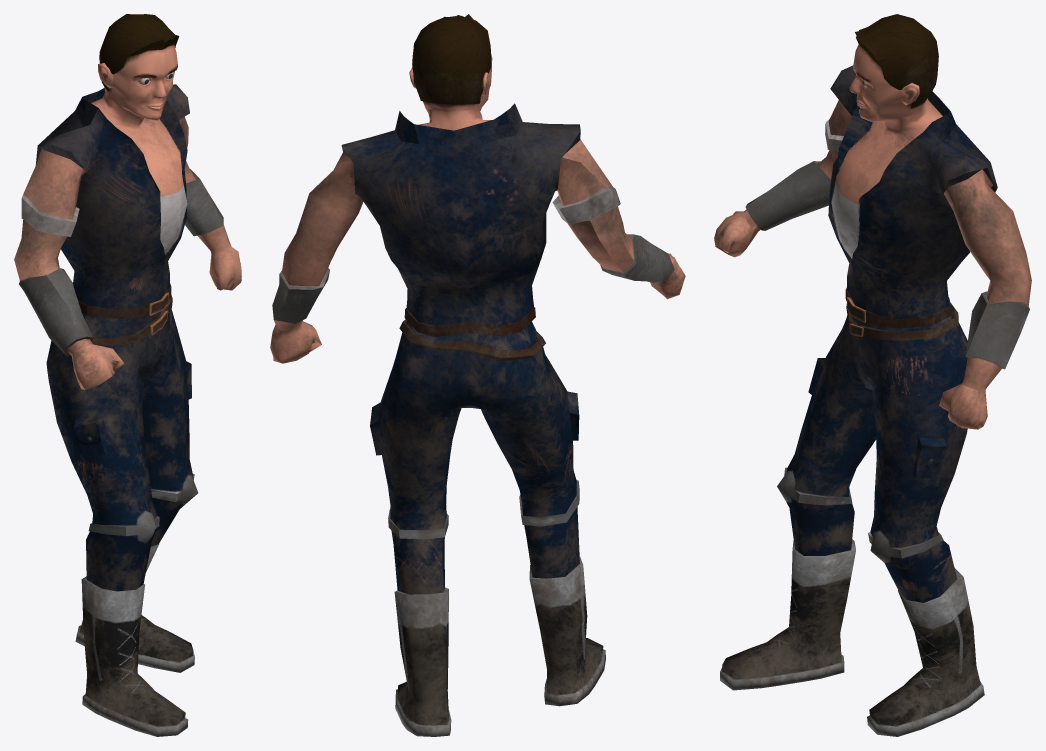
The model's file is Anim_abrir_puerta_ok_jugador.0019.obj.
The picture shows the model from 3 angles, left to right: view 1: azimuth 30°, elevation 25°; view 2: azimuth 150°, elevation 25°; view 3: azimuth 270°, elevation 25°; orthographic projection. The views are drawn at different scales.
Parts seen in each view (by area): view 1: polySurface1; view 2: polySurface1; view 3: polySurface1.
Part boxes in pixels (x1=…): polySurface1: x1=14, y1=14, x2=241, y2=736; polySurface1: x1=270, y1=14, x2=685, y2=736; polySurface1: x1=714, y1=14, x2=1031, y2=736.
Bounding box in the file's own units: 4.31 × 9.51 × 3.96.
